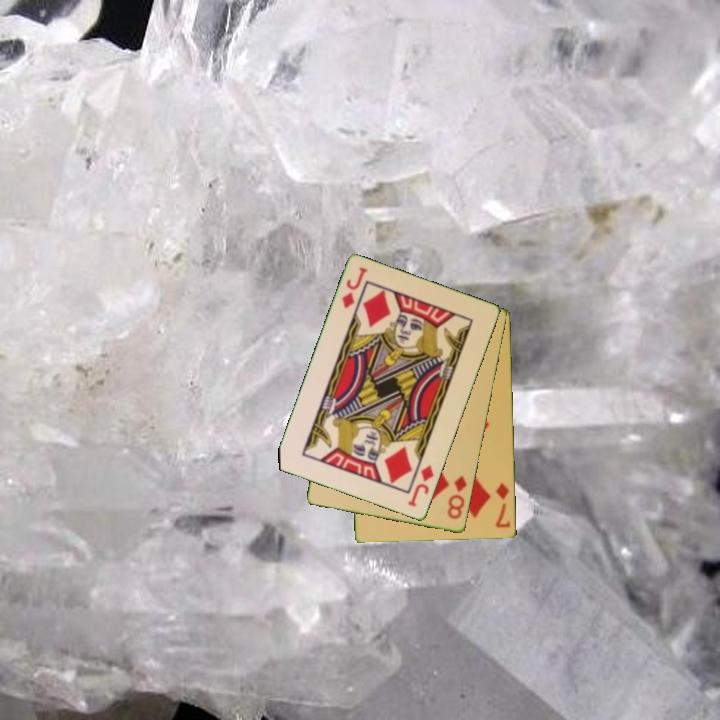7d: (492, 480, 514, 531)
8d: (444, 472, 470, 522)
Jd: (405, 461, 437, 510), (339, 264, 371, 312)
